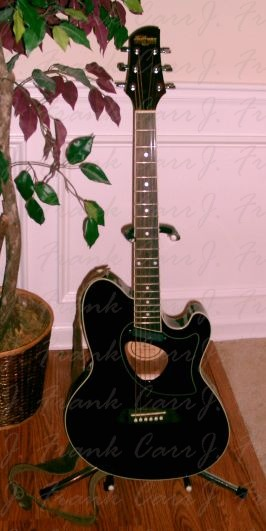guitar: (64, 25, 230, 483)
